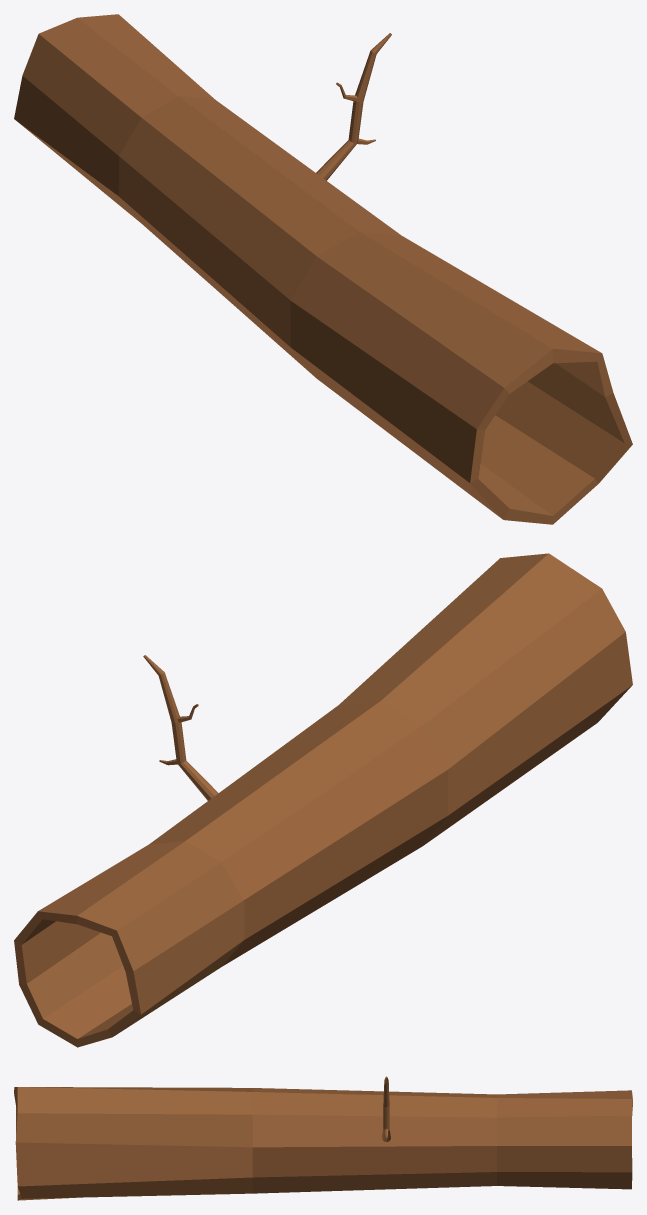
The model's file is Billet_03.fbx.
3 renders of one model, top to bottom at view 1: azimuth 30°, elevation 25°; view 2: azimuth 150°, elevation 25°; view 3: azimuth 270°, elevation 25°, orthographic. The views are drawn at different scales.
Parts seen in each view (by area): view 1: Billet_03; view 2: Billet_03; view 3: Billet_03.
Part boxes in pixels (bbox=[...]): Billet_03: bbox=[14, 14, 632, 524]; Billet_03: bbox=[14, 553, 632, 1047]; Billet_03: bbox=[14, 1076, 632, 1200].
Bounding box in the file's own units: 76.87 × 88.9 × 306.
